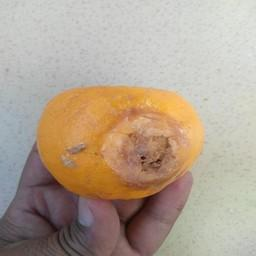Bad_orange: (35, 81, 199, 202)
